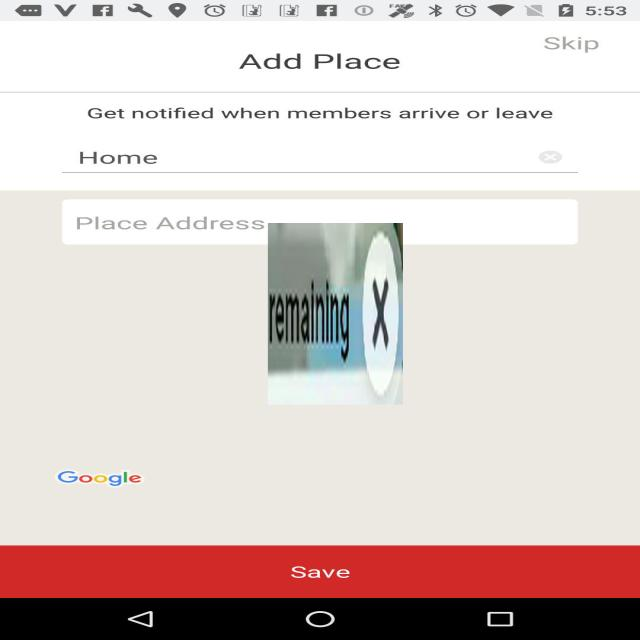misdirection: (268, 223, 403, 405)
